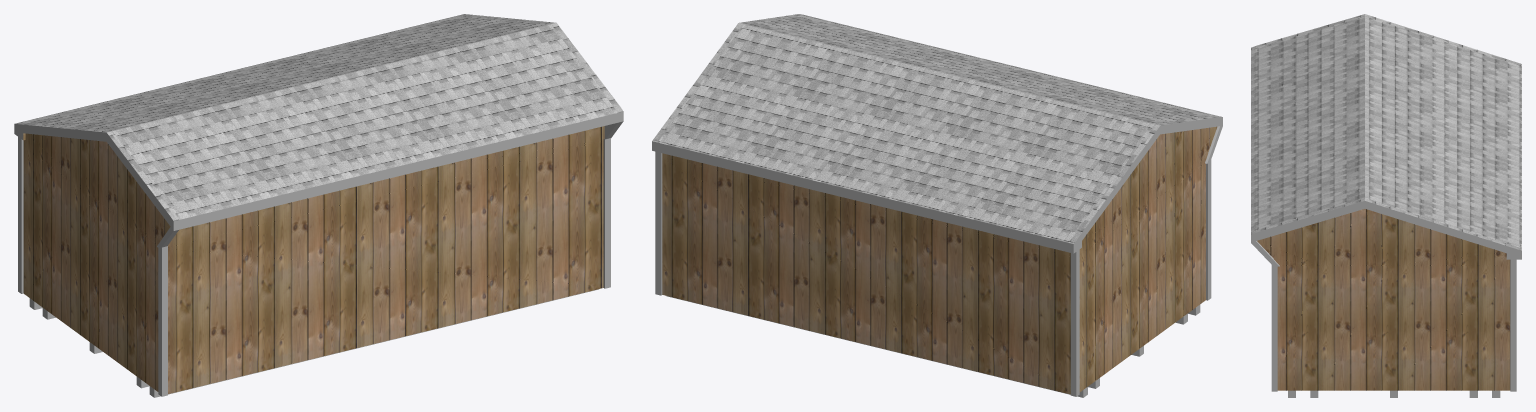
File: Quaker Sheds_10x18.obj
3 views of the same model, side by side, from view 1: azimuth 30°, elevation 25°; view 2: azimuth 150°, elevation 25°; view 3: azimuth 270°, elevation 25° (orthographic). The views are drawn at different scales.
Parts seen in each view (by area): view 1: Shed, Roof, Sides, Trim, Floor; view 2: Shed, Roof, Sides, Trim, Floor; view 3: Roof, Shed, Sides, Trim, Floor.
Boxes of the visible parts, bbox=[...] form: Shed: bbox=[23, 126, 604, 393]; Roof: bbox=[15, 14, 623, 221]; Sides: bbox=[14, 111, 623, 249]; Trim: bbox=[18, 137, 610, 396]; Floor: bbox=[29, 289, 598, 397]; Shed: bbox=[662, 126, 1217, 394]; Roof: bbox=[652, 14, 1221, 243]; Sides: bbox=[652, 117, 1222, 253]; Trim: bbox=[655, 151, 1211, 396]; Floor: bbox=[666, 296, 1200, 397]; Roof: bbox=[1251, 14, 1521, 250]; Shed: bbox=[1257, 209, 1510, 390]; Sides: bbox=[1251, 201, 1521, 266]; Trim: bbox=[1271, 259, 1516, 391]; Floor: bbox=[1288, 390, 1500, 397].
Size of the model in its own units: 5.55 by 2.74 by 3.4.
